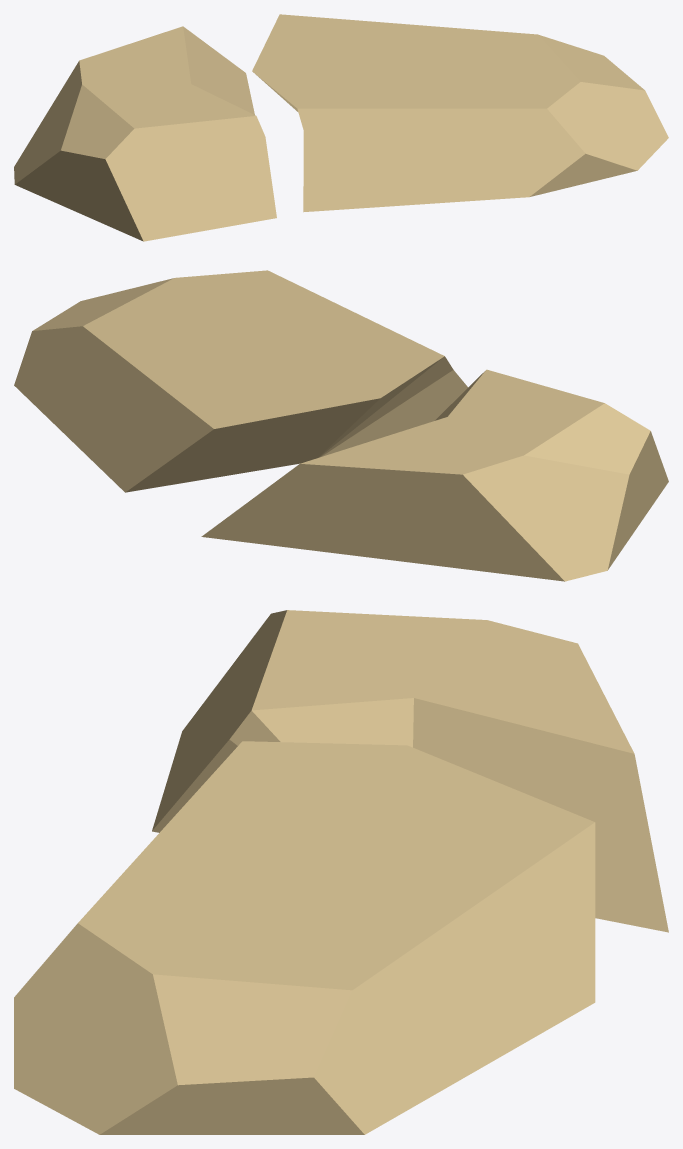
Rendered from Rock_Flat_crk_s_04.fbx.
3 views of the same model, one above another, from view 1: azimuth 30°, elevation 25°; view 2: azimuth 150°, elevation 25°; view 3: azimuth 270°, elevation 25° (orthographic). The views are drawn at different scales.
Parts seen in each view (by area): view 1: Rock_Flat_crk_s_04; view 2: Rock_Flat_crk_s_04; view 3: Rock_Flat_crk_s_04.
Part boxes in pixels (<box>): Rock_Flat_crk_s_04: <box>14,14,668,241</box>; Rock_Flat_crk_s_04: <box>14,270,668,581</box>; Rock_Flat_crk_s_04: <box>14,610,668,1134</box>.
Bounding box in the file's own units: 89.2 × 13.34 × 56.8.
